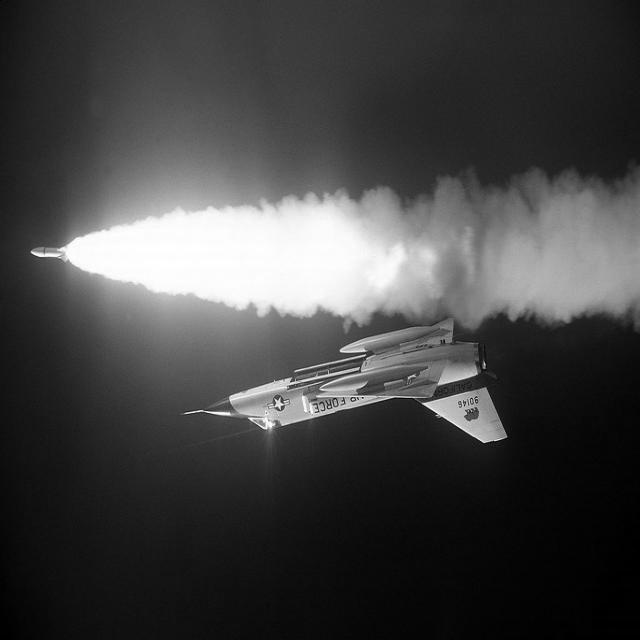missile: (23, 234, 70, 275)
